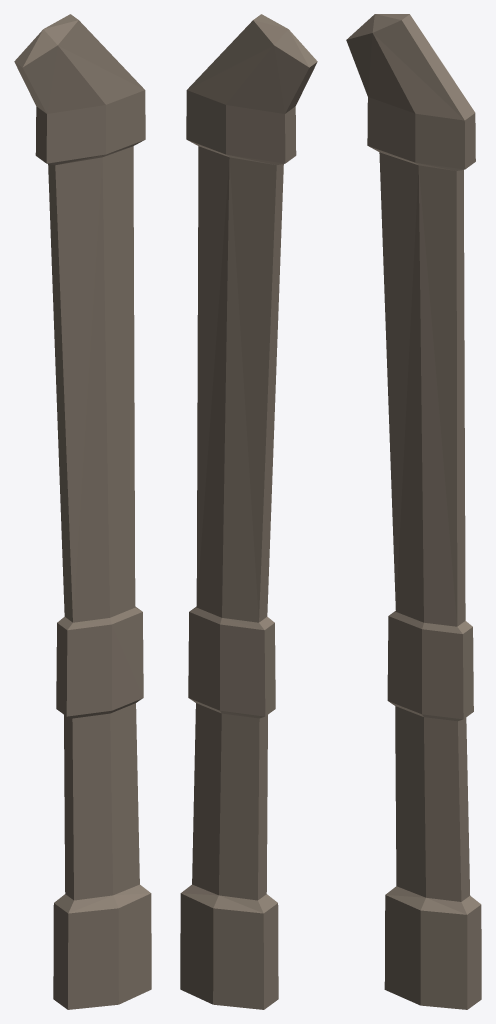
Rendered from SM_Wep_Sabre_02_Sheath.glb.
3 views of the same model, side by side, from view 1: azimuth 30°, elevation 25°; view 2: azimuth 150°, elevation 25°; view 3: azimuth 330°, elevation 25° (orthographic).
Parts seen in each view (by area): view 1: SM_Wep_Sabre_02_Sheath_00; view 2: SM_Wep_Sabre_02_Sheath_00; view 3: SM_Wep_Sabre_02_Sheath_00.
Part boxes in pixels (<box>): SM_Wep_Sabre_02_Sheath_00: <box>14,14,151,1009</box>; SM_Wep_Sabre_02_Sheath_00: <box>180,14,317,1009</box>; SM_Wep_Sabre_02_Sheath_00: <box>346,14,481,1009</box>.
Bounding box in the file's own units: 0.1305 × 0.9734 × 0.0525.
Materials: 1 (1 with a texture image).
